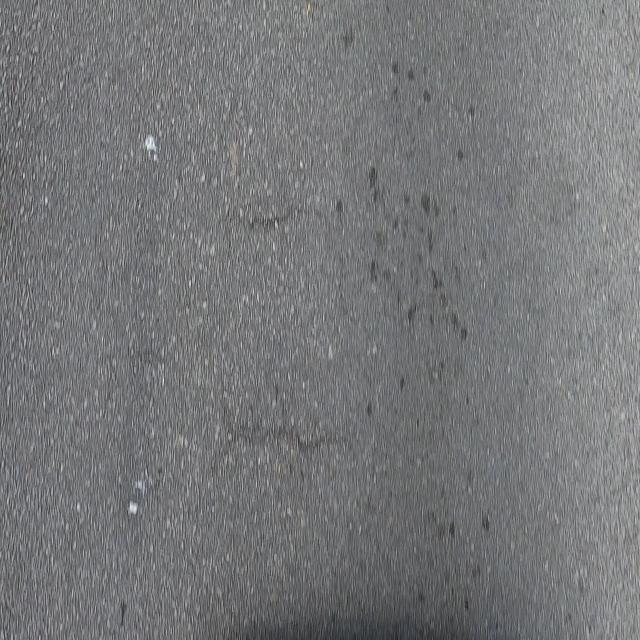Retak-Melintang: (208, 398, 353, 474), (249, 199, 333, 239)
